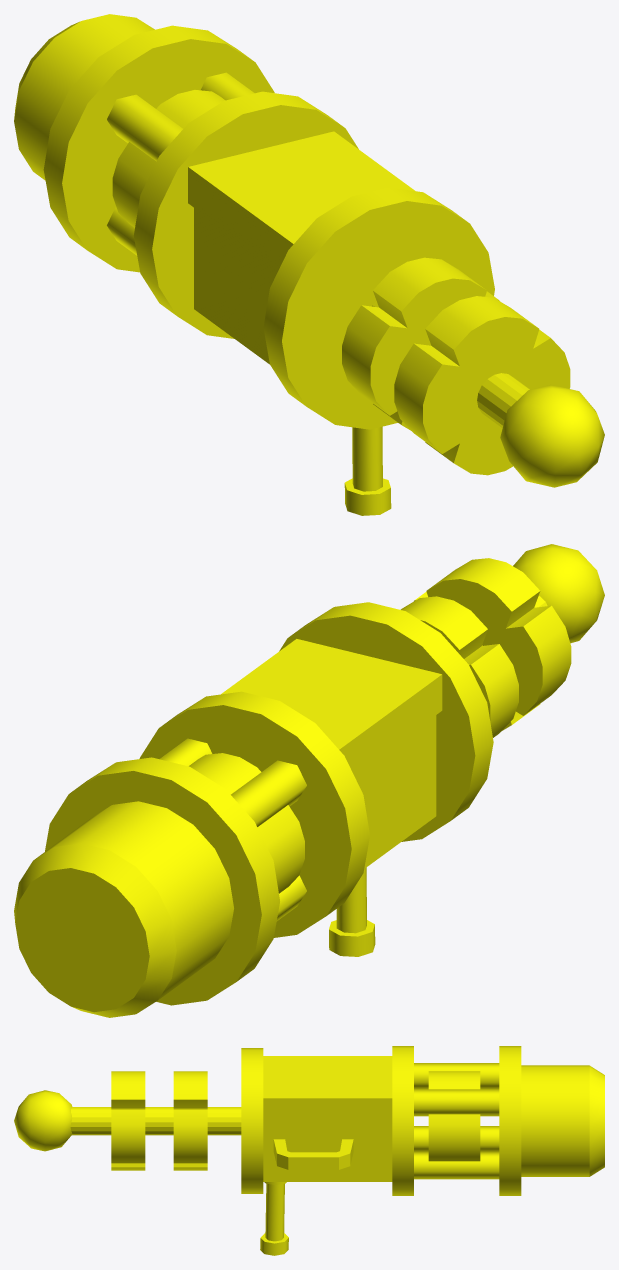
The model's file is weapon_lightinggun.glb.
The picture shows the model from 3 angles, top to bottom: view 1: azimuth 30°, elevation 25°; view 2: azimuth 150°, elevation 25°; view 3: azimuth 270°, elevation 25°; orthographic projection. The views are drawn at different scales.
Visible parts, largest first — view 1: weapon_electro; view 2: weapon_electro; view 3: weapon_electro.
Part boxes in pixels (x1,y1,x2,y2): weapon_electro: (14,14,604,515); weapon_electro: (14,544,604,1017); weapon_electro: (14,1046,604,1255).
Bounding box in the file's own units: 0.2176 × 0.2853 × 0.7884.
Materials: 1 (1 with a texture image).
